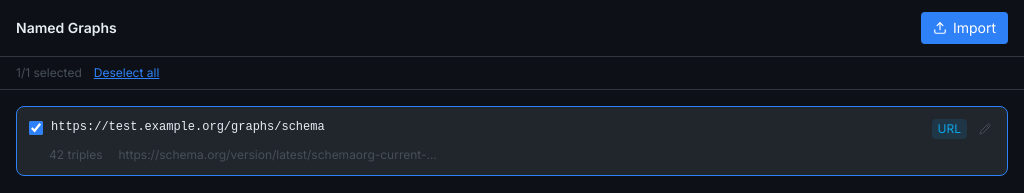
it: NamedGraphList › deselect all button clears graph selections
Step 1. Click the button "Deselect all" → (126, 73), box [94,65,159,81]
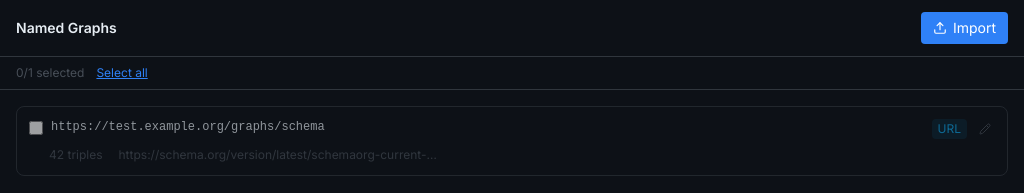
Expected: the button "Select all" is shown, [96,65,148,81]
Expected: the checkbox is not checked, [29,121,43,135]
